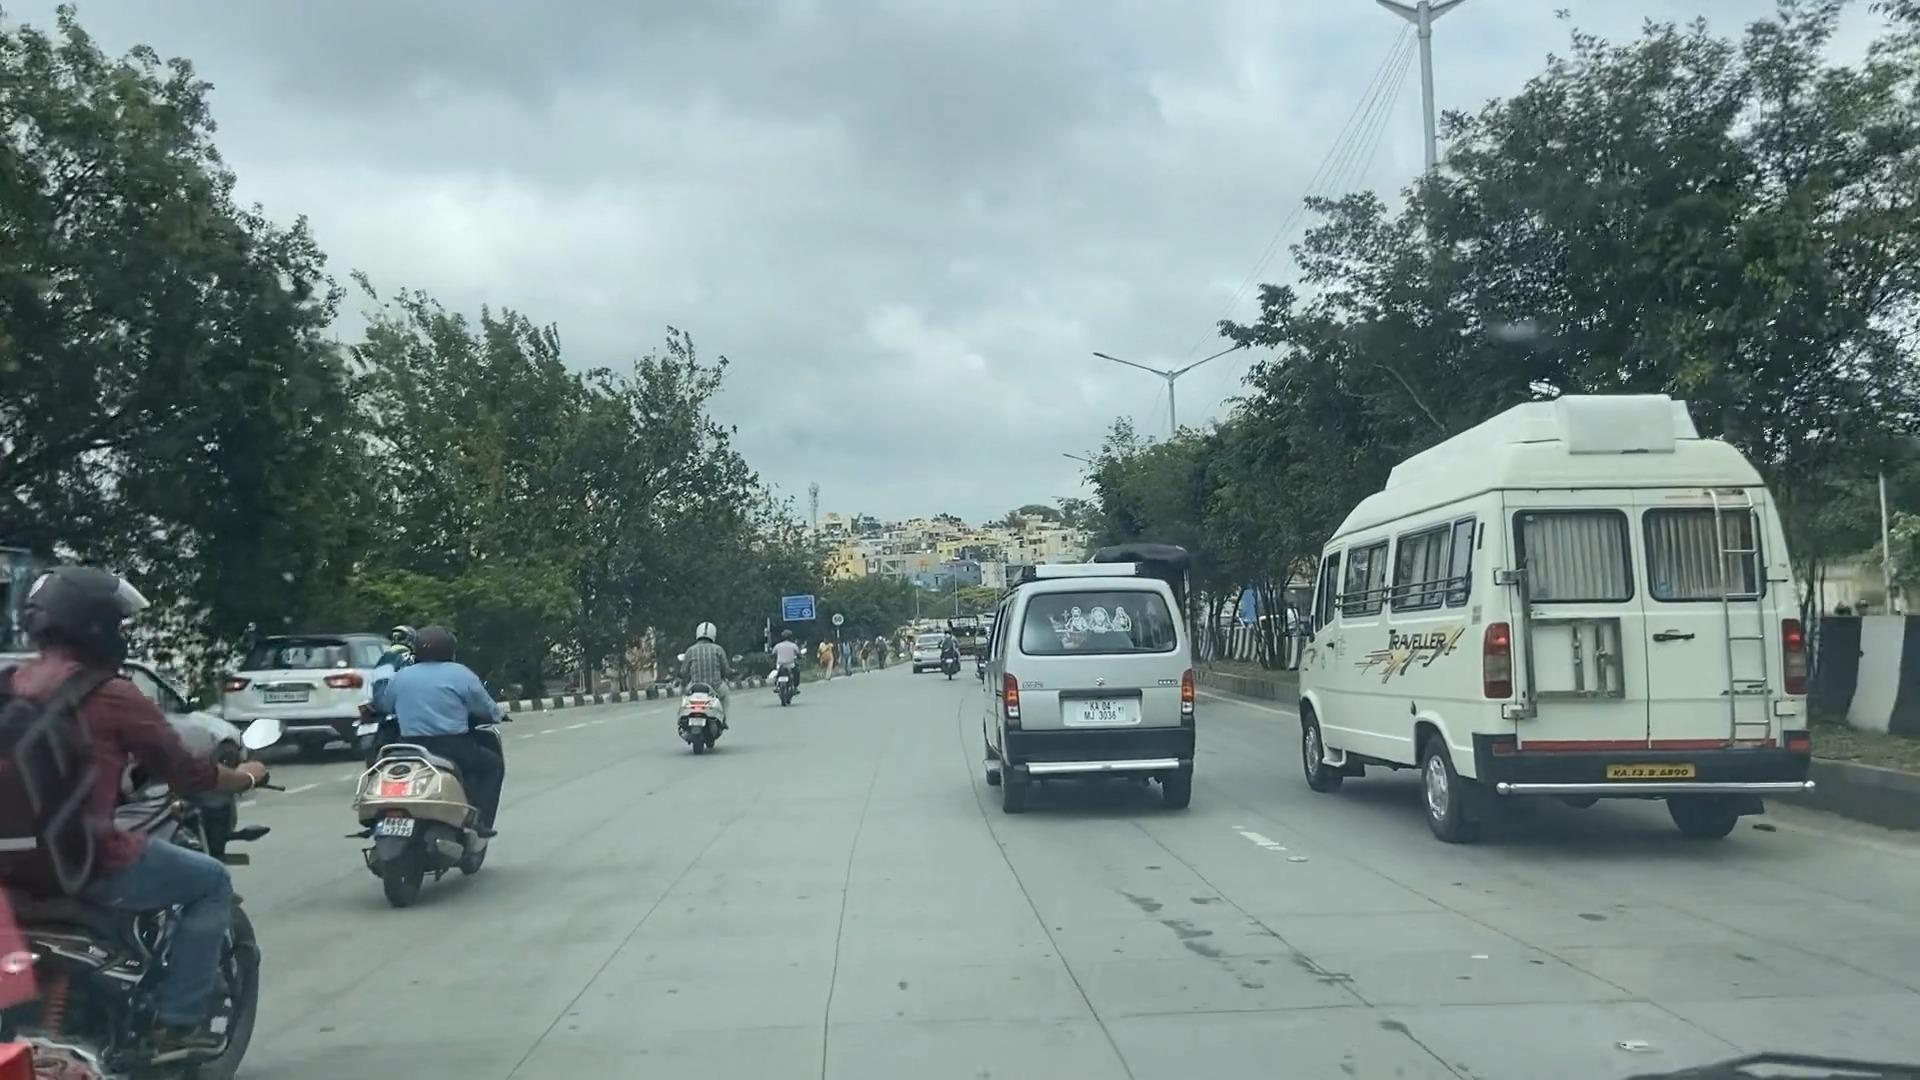HMV: (1323, 477, 1774, 855)
LMV: (11, 553, 277, 1080), (956, 560, 1189, 808), (363, 608, 501, 931), (680, 608, 733, 762)
